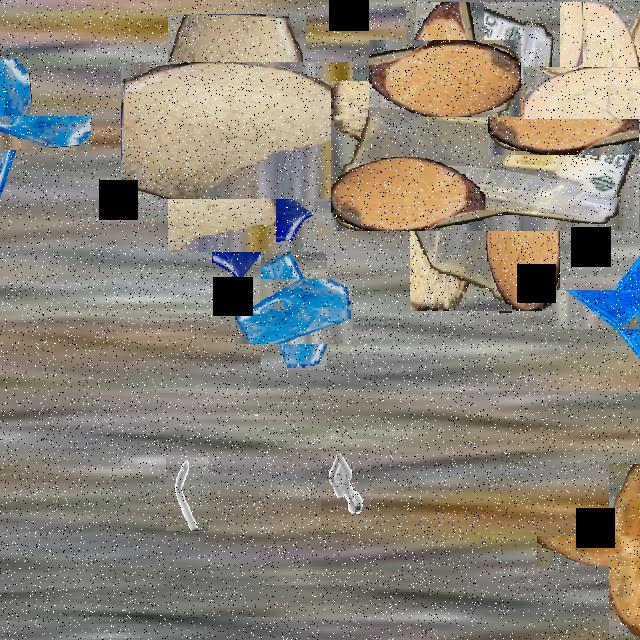glass: (184, 154, 298, 268), (248, 265, 340, 357), (0, 87, 62, 179), (576, 265, 640, 353)
metal: (554, 2, 616, 112), (321, 439, 371, 528), (166, 457, 208, 531)
plastic: (370, 42, 600, 271)
wood: (144, 38, 330, 222), (464, 2, 604, 226), (388, 20, 502, 136), (555, 33, 640, 151), (573, 499, 640, 602)
